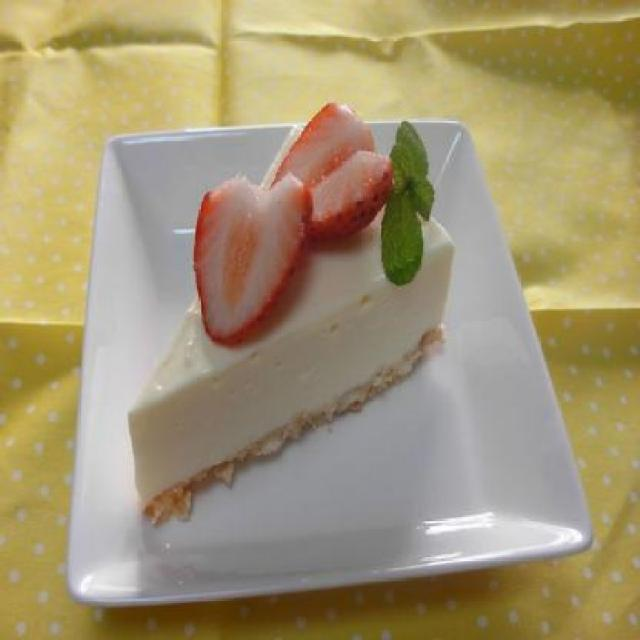Rare cheese cake: (106, 96, 528, 547)
